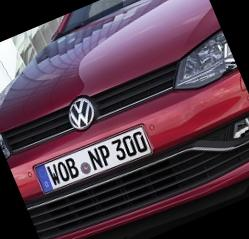plate: (20, 108, 171, 223)
